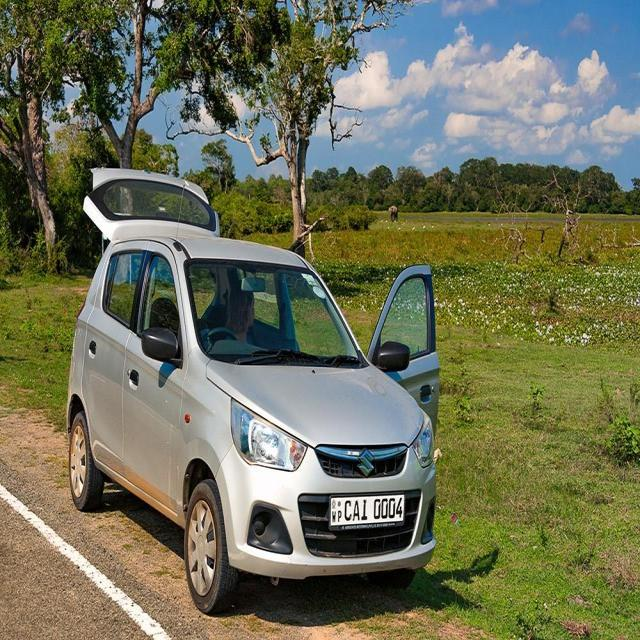license-plate: (330, 496, 404, 522)
